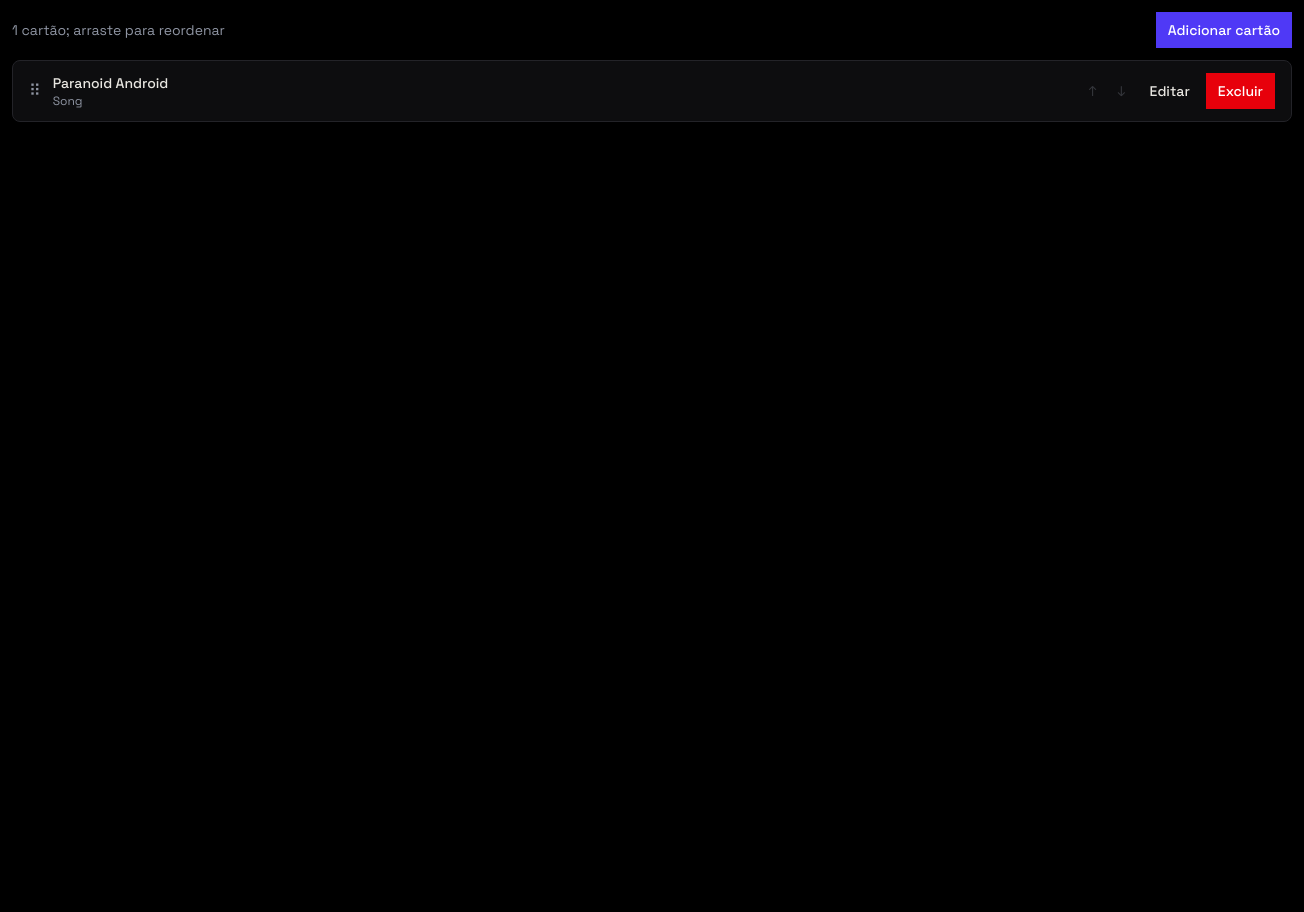
Test: RichCardManager › autocompletes the form from a scraped link
This screenshot has width=1304, height=912.
Click the button "Adicionar cartão".
click(1224, 30)  # box [1156, 12, 1292, 48]
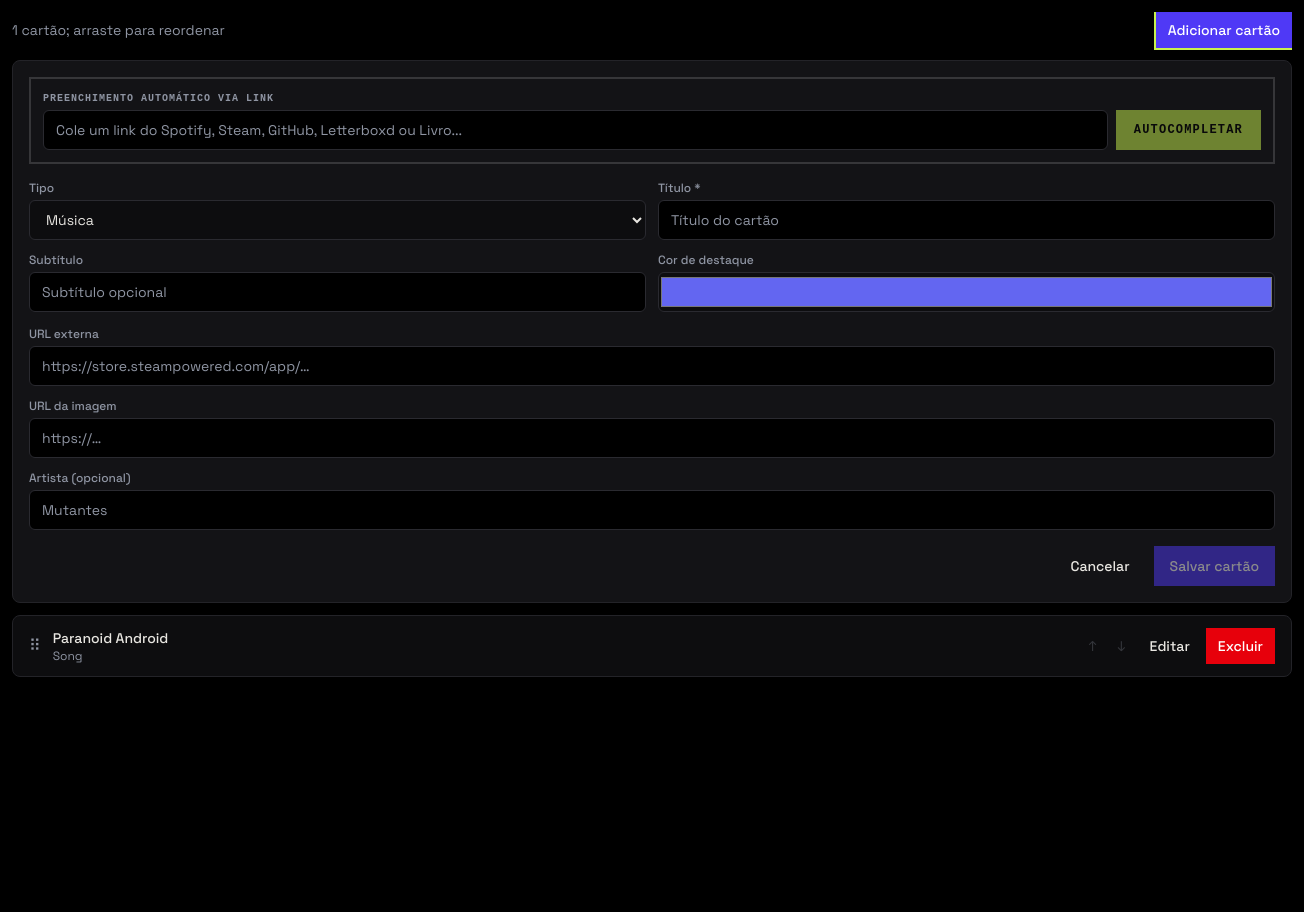
Type "https://open.spotify.com/track/xyz" into the field with placeholder "Cole um link do Spotify, Steam, GitHub, Letterboxd ou Livro...".
click(575, 130); type("https://open.spotify.com/track/xyz")  # box [43, 110, 1108, 150]
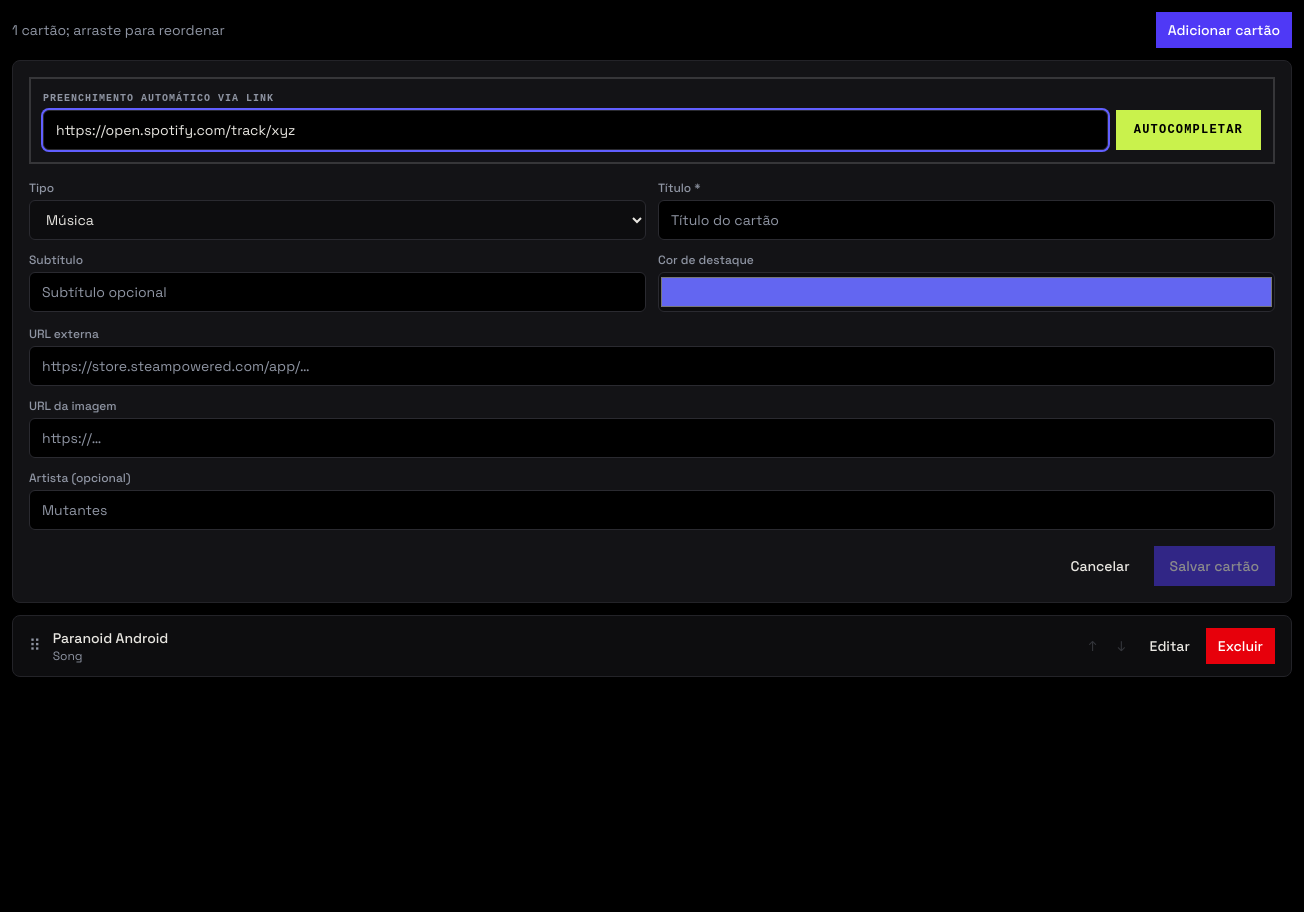
Click the button "Autocompletar".
click(1188, 130)  # box [1116, 110, 1261, 150]
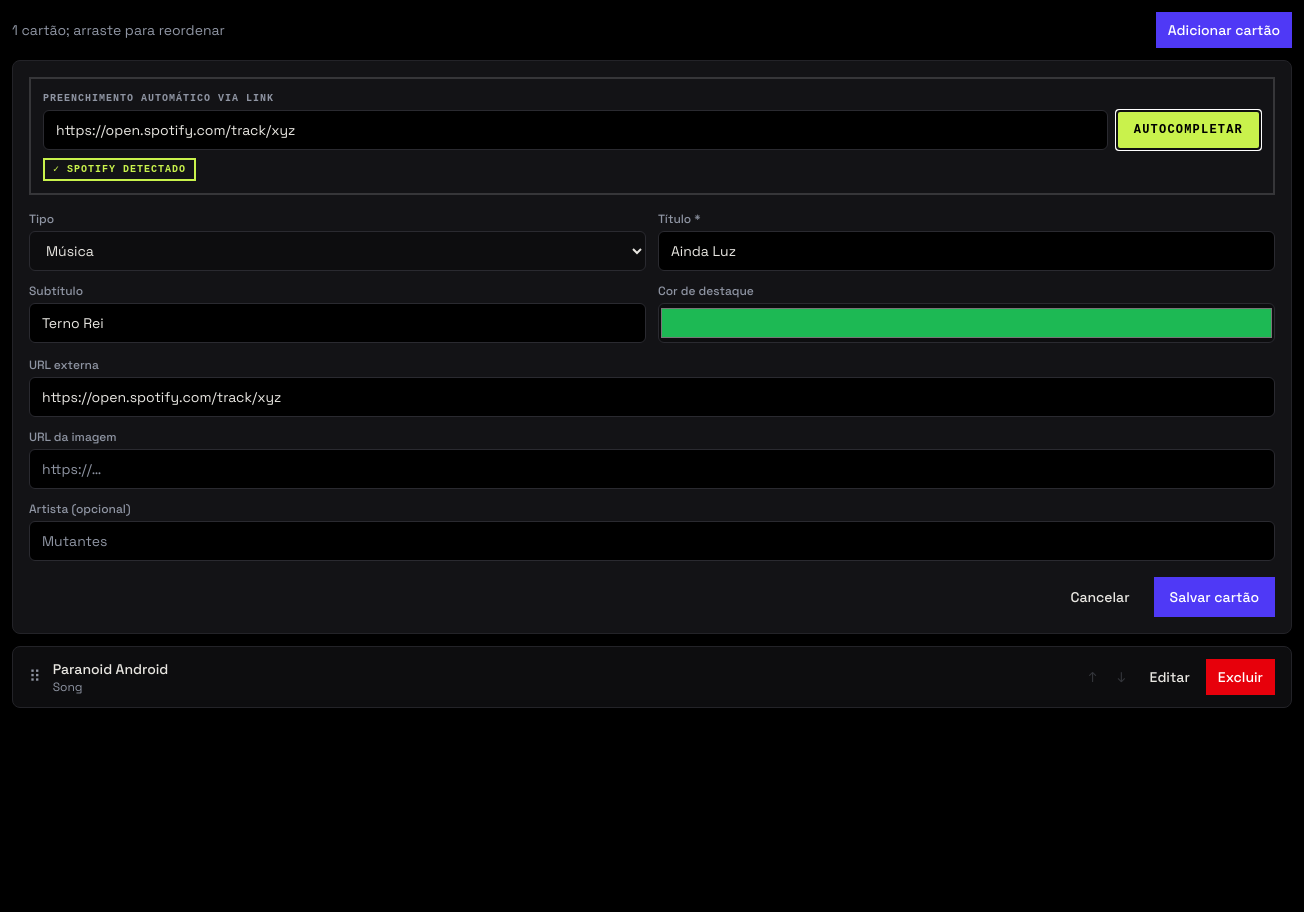
Expected: the text "✓ Spotify detectado" is shown, [43, 158, 196, 181]
Expected: the field showing "Ainda Luz" below "Título *" is shown, [658, 231, 1275, 271]
Expected: the colour field showing "#1db954" is shown, [658, 303, 1275, 343]
